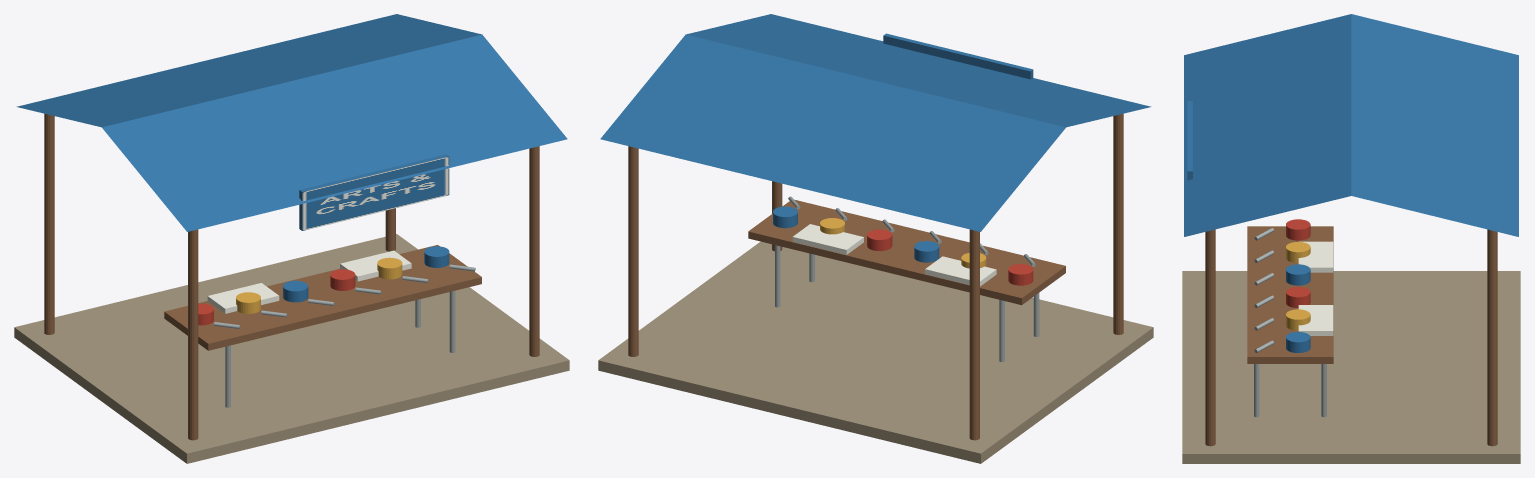
The model's file is scendance-plan-arts-and-crafts.glb.
3 views of the same model, side by side, from view 1: azimuth 30°, elevation 25°; view 2: azimuth 150°, elevation 25°; view 3: azimuth 270°, elevation 25° (orthographic). The views are drawn at different scales.
Bounding box in the file's own units: 3.9 × 2.66 × 3.05.
8 materials, 1 textured.
